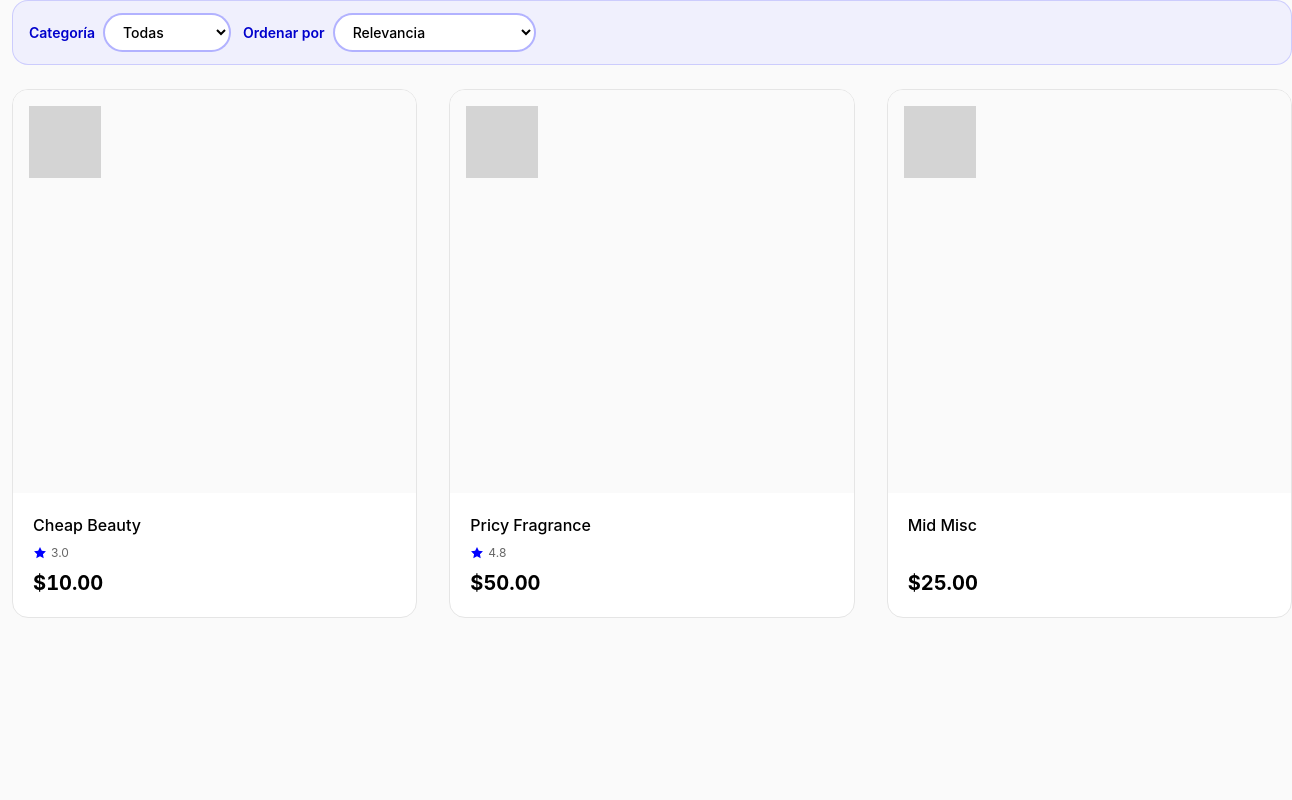
Scenario: ProductListingV2 › continues paginating the selected category, not the original query, once one is active
Step 1. Select "beauty" in the dropdown labelled "Categoría" → point(167, 32), box left=103, top=13, right=231, bottom=52
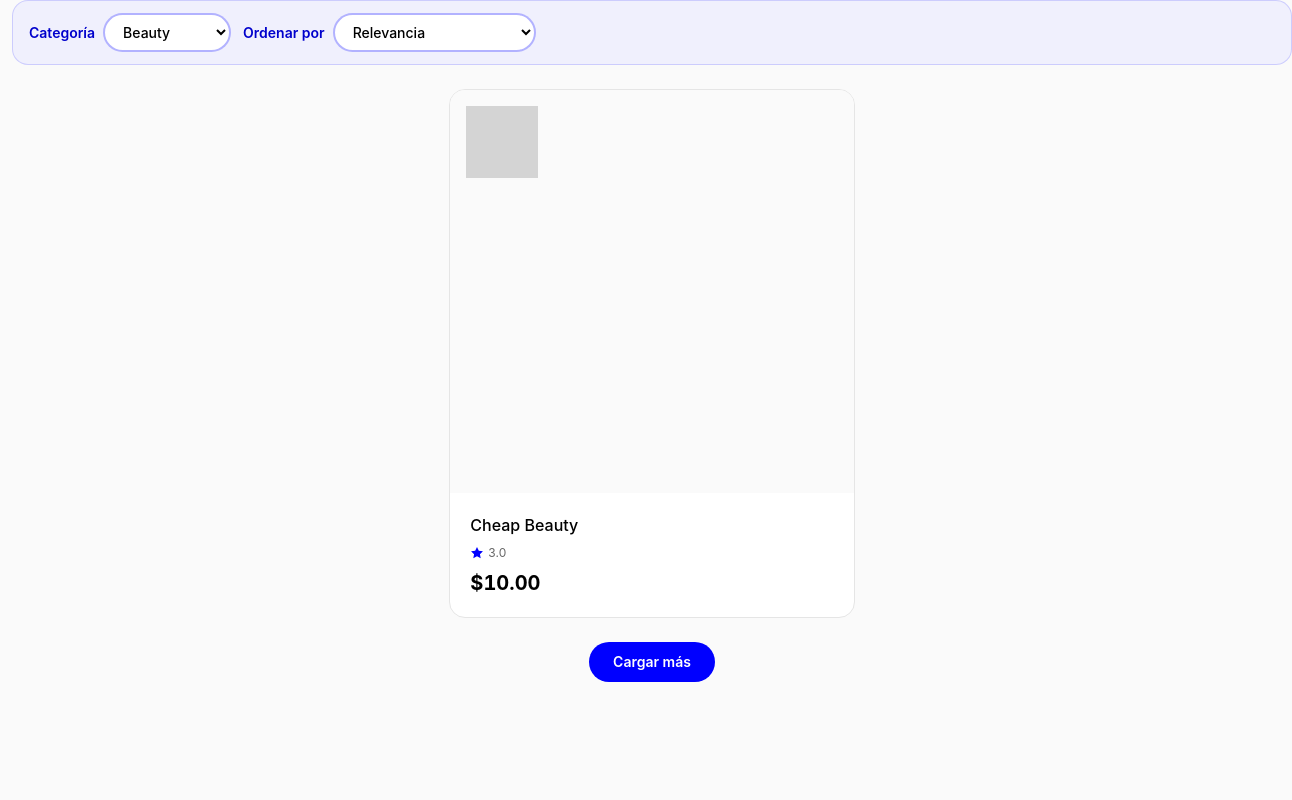
Check: the heading "Cheap Beauty" is shown, box left=470, top=515, right=578, bottom=535
Step 2. Click the button "Cargar más" → point(652, 662), box left=589, top=642, right=715, bottom=682
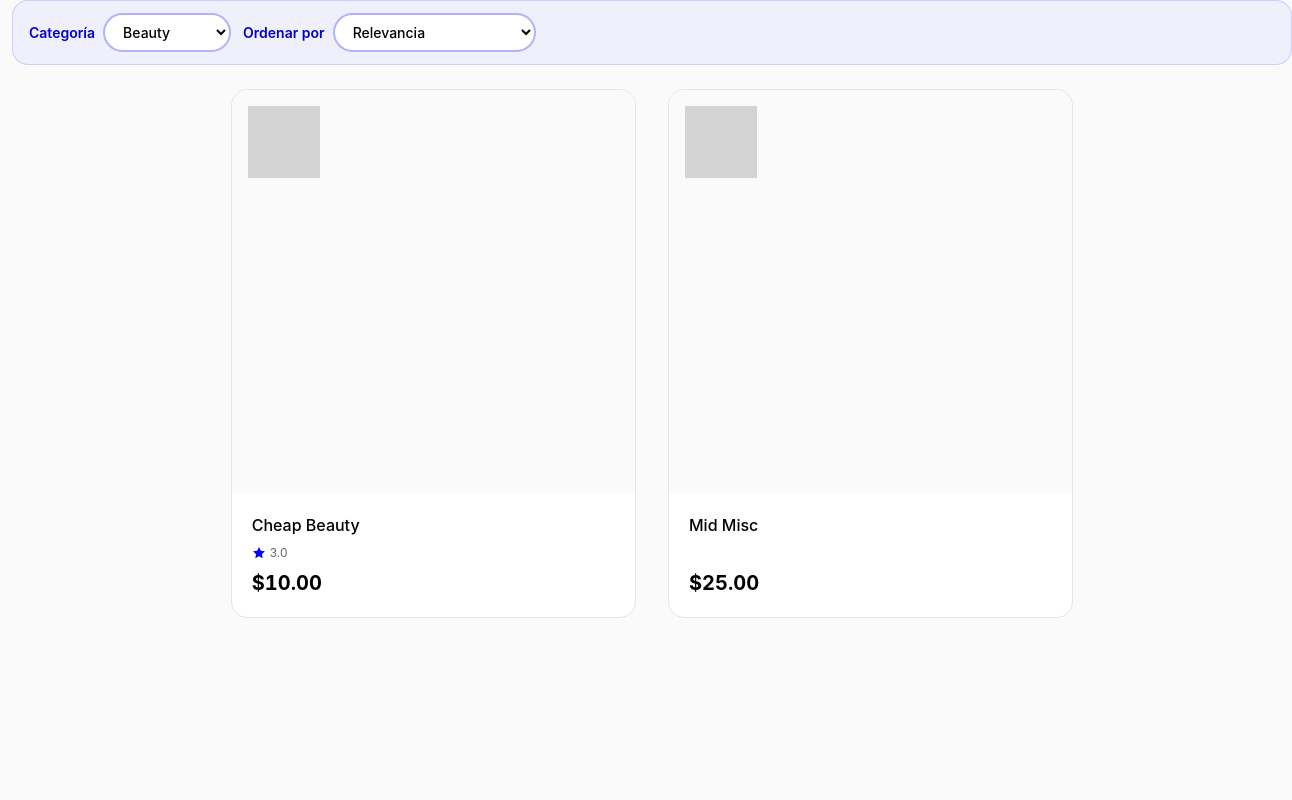
Check: the heading "Mid Misc" is shown, box left=689, top=515, right=758, bottom=535
